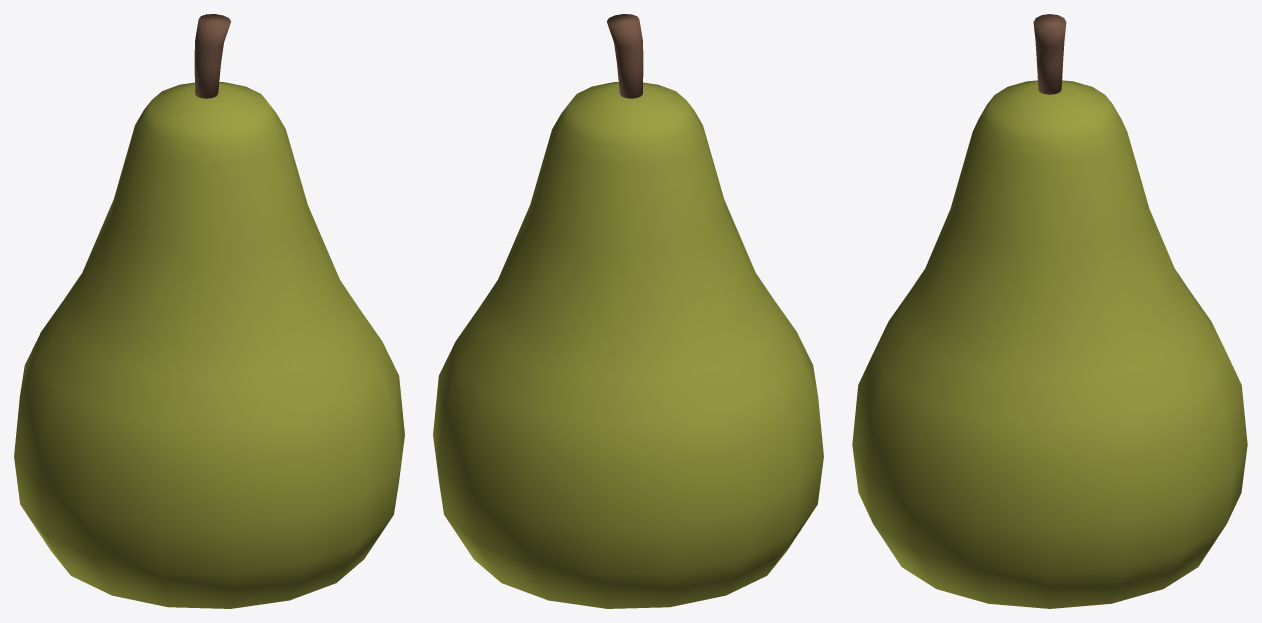
File: Pear.glb
3 renders of one model, left to right at view 1: azimuth 30°, elevation 25°; view 2: azimuth 150°, elevation 25°; view 3: azimuth 270°, elevation 25°, orthographic.
Parts seen in each view (by area): view 1: Piore; view 2: Piore; view 3: Piore.
Part boxes in pixels (<box>): Piore: <box>14,14,404,608</box>; Piore: <box>433,14,823,608</box>; Piore: <box>852,14,1247,608</box>.
Bounding box in the file's own units: 2.2 × 3.35 × 2.2.
